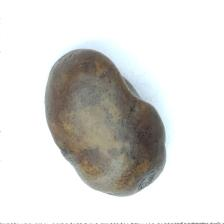NG: (134, 164, 163, 193)
